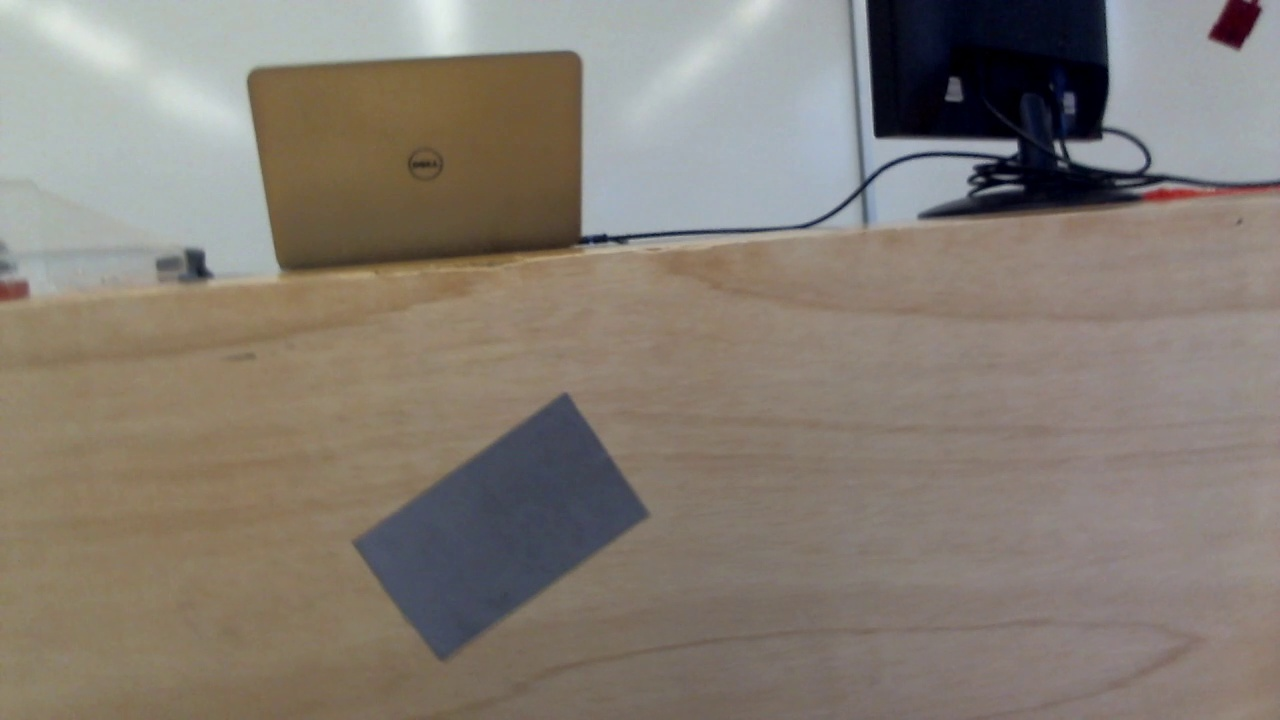Tape: (351, 395, 655, 661)
